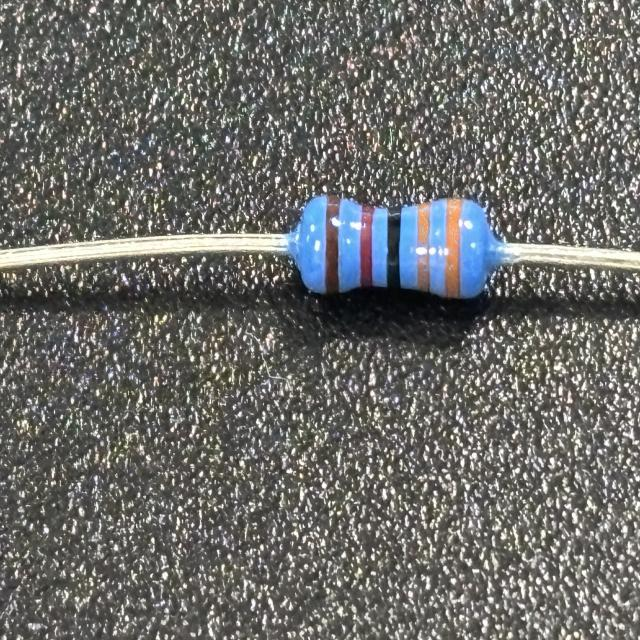resistor: (295, 186, 496, 308)
